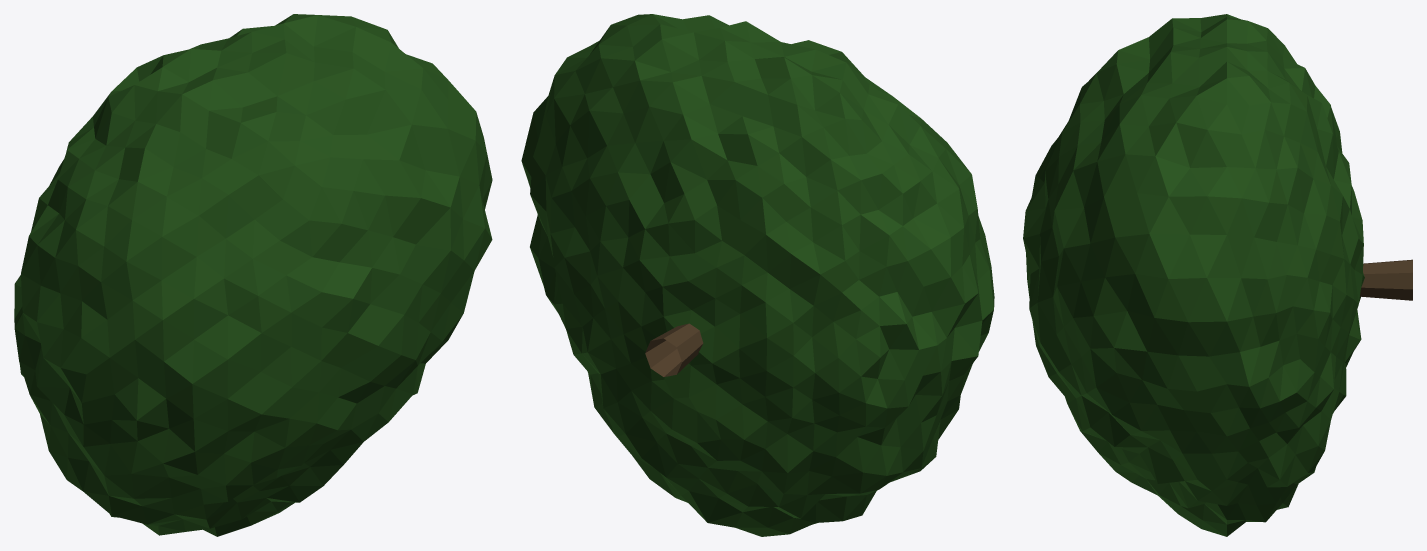
Rendered from citrus_b.obj.
The picture shows the model from 3 angles, left to right: view 1: azimuth 30°, elevation 25°; view 2: azimuth 150°, elevation 25°; view 3: azimuth 270°, elevation 25°; orthographic projection. The views are drawn at different scales.
Parts seen in each view (by area): view 1: canopy; view 2: canopy, trunk; view 3: canopy, trunk.
Boxes of the visible parts, box(x1,y1,x2,y2) form: canopy: box(14, 14, 492, 536); canopy: box(521, 14, 994, 536); trunk: box(645, 323, 703, 376); canopy: box(1023, 14, 1364, 536); trunk: box(1360, 259, 1412, 300).
Size of the model in its own units: 3.67 by 3.82 by 2.77.
